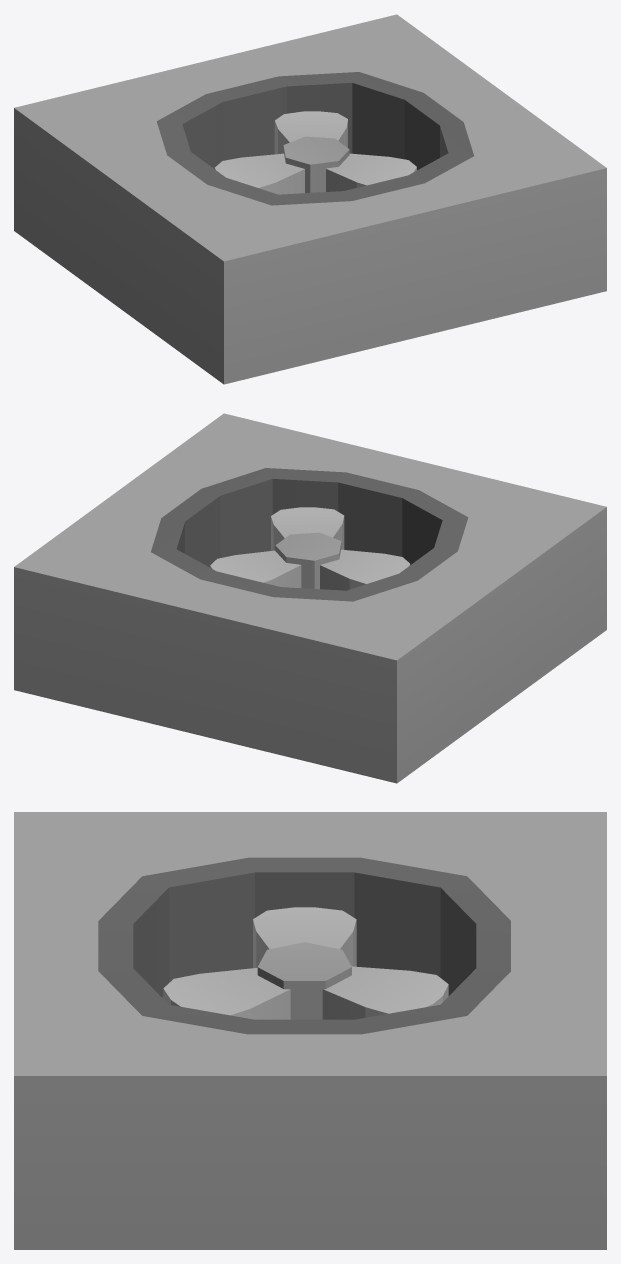
Rendered from exhaust fan.fbx.
3 views of the same model, one above another, from view 1: azimuth 30°, elevation 25°; view 2: azimuth 150°, elevation 25°; view 3: azimuth 270°, elevation 25° (orthographic). The views are drawn at different scales.
Visible parts, largest first — view 1: exhaust fan; view 2: exhaust fan; view 3: exhaust fan.
Part boxes in pixels (x1=…): exhaust fan: x1=14, y1=14, x2=606, y2=384; exhaust fan: x1=14, y1=413, x2=606, y2=783; exhaust fan: x1=14, y1=812, x2=606, y2=1249.
Bounding box in the file's own units: 133 × 40.92 × 127.
